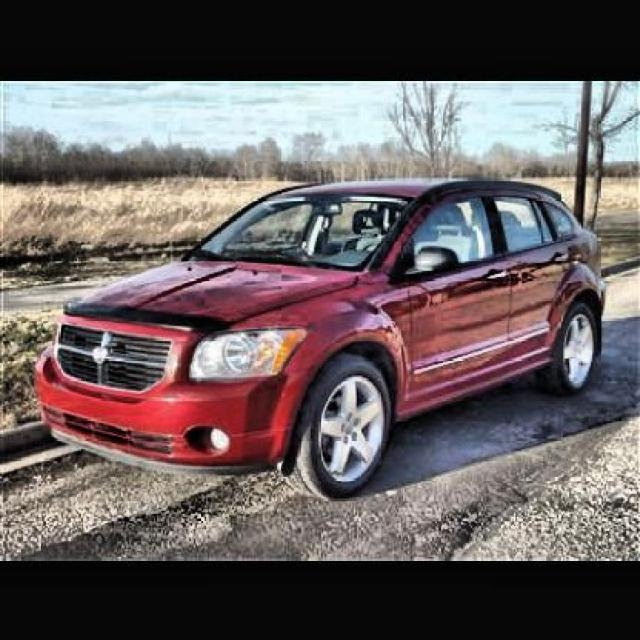maroon: (37, 177, 603, 473)
